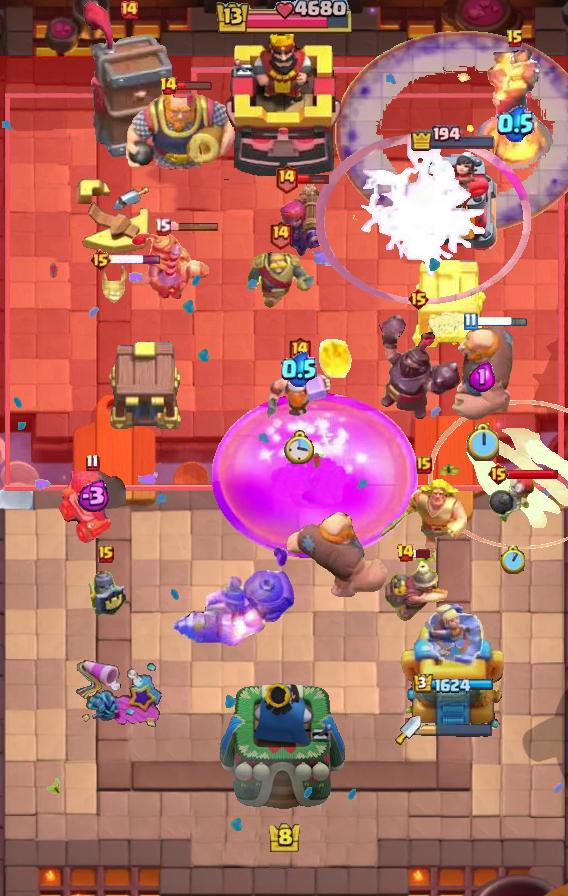balloon: (285, 509, 389, 601), (448, 321, 516, 423)
bandit: (383, 555, 451, 623)
bar: (398, 595, 508, 731)
barbarian-evolution: (317, 133, 532, 305)
bomb: (409, 256, 489, 350), (104, 338, 184, 432)
clock: (213, 0, 355, 38)
dart-goblin: (82, 0, 176, 160)
electro-dragon: (476, 45, 554, 173)
electro-spirit: (498, 105, 535, 143), (281, 351, 317, 387), (73, 480, 111, 512), (469, 362, 495, 392)
elixir: (466, 423, 499, 461), (285, 430, 315, 464), (499, 546, 524, 574)
emote: (475, 315, 529, 329), (507, 468, 559, 480), (110, 255, 163, 266), (168, 220, 220, 231), (175, 80, 212, 91), (296, 173, 329, 185), (412, 549, 432, 560)
firecracker: (246, 252, 315, 308)
giant-skeleton: (124, 86, 240, 176)
goblin-hut: (377, 477, 471, 555)
ice-golem: (488, 475, 536, 525)
ice-spirit-evolution: (100, 265, 130, 303)
ice-wizard: (428, 399, 568, 549)
king-tower: (219, 678, 349, 826), (224, 29, 344, 181)
king-tower-bar: (421, 723, 493, 737)
knight-evolution: (210, 392, 418, 560)
mega-minion: (279, 183, 327, 259)
mighty-miner: (265, 371, 333, 425)
princess: (84, 563, 128, 621)
queen-tower: (408, 152, 498, 256)
ram-rider: (132, 231, 212, 303)
rocket: (336, 31, 568, 235)
royal-giant-evolution: (58, 471, 126, 545)
royal-guardian: (372, 309, 464, 423)
selected: (411, 125, 498, 152), (414, 673, 495, 695)
text: (273, 163, 298, 194), (268, 219, 293, 250), (288, 335, 312, 365), (88, 248, 111, 272), (406, 287, 429, 311), (487, 462, 510, 486), (119, 0, 139, 20), (159, 76, 178, 96), (397, 543, 416, 563), (506, 29, 524, 49), (153, 217, 170, 235), (416, 456, 432, 474), (98, 545, 114, 563), (463, 313, 477, 331), (85, 453, 99, 471)
valkyrie: (315, 333, 353, 381)
wizard: (172, 569, 296, 647)
